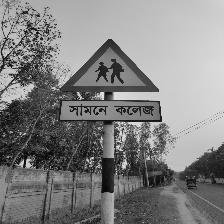College-in-front: (52, 33, 196, 162)
